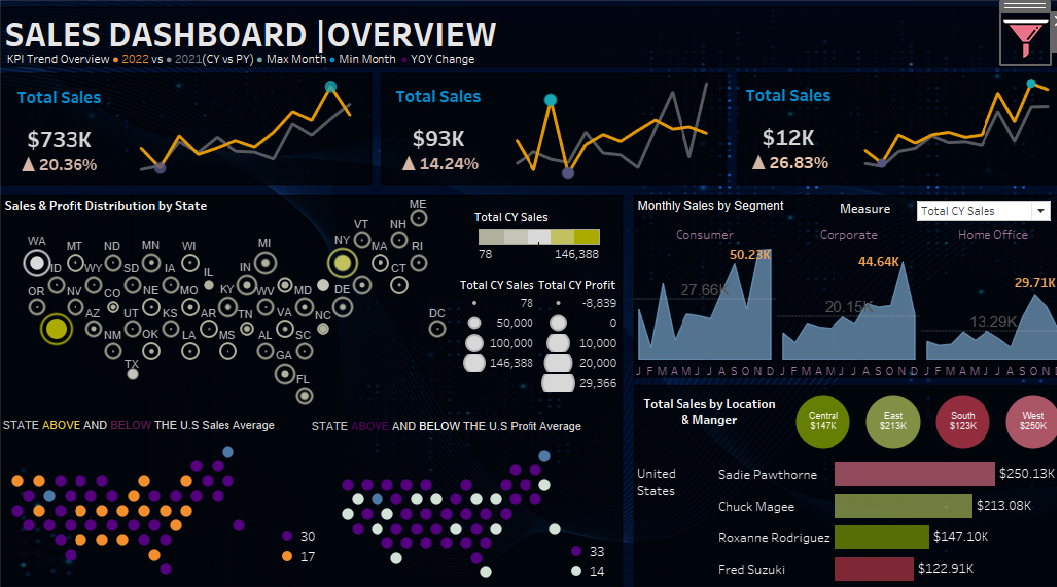

This screenshot's page, from the dashboard's own definition file:
{"tool":"tableau","page":{"name":"Sales Dashboard","canvas":[1000,1000],"units":"permille","ordinal":0},"visuals":[{"type":"image","param":"Image/Presentation2.png","box":[7.5,12.7,984.9,974.7]},{"type":"text","box":[13.1,34.8,471.4,104.4]},{"type":"dashboard-object","box":[927.6,55.4,44.2,80.7]},{"type":"text","box":[15,106,447.1,44.3]},{"type":"filter","title":"Sales & Profit by State","param":"[federated.0pq8gk70szhb8g17a5zz90hh5ztn].[none:Category:nk]","box":[815.6,117.1,89.4,82.3]},{"type":"worksheet","title":"Qty KPI","mark":"Automatic","box":[681.4,147.2,103.5,182]},{"type":"worksheet","title":"QTY Sparkline ","mark":"Automatic","rows":["min max profit (copy)_347621654358249486"],"cols":["Order Date"],"box":[784.8,147.2,203.9,182]},{"type":"worksheet","title":"Sales KPI","mark":"Automatic","box":[11.2,150.3,108.2,182]},{"type":"worksheet","title":"Sales Sparkline","mark":"Automatic","rows":["Calculation_347621654348922892"],"cols":["Order Date"],"box":[119.4,150.3,232,182]},{"type":"worksheet","title":"Profit KPI","mark":"Automatic","box":[359.9,150.3,104.4,180.4]},{"type":"worksheet","title":"Profit Sparkline","mark":"Automatic","rows":["min max month (copy)_347621654356144141"],"cols":["Order Date"],"box":[464.3,150.3,212.3,180.4]},{"type":"filter","title":"Sales & Profit by State","param":"[federated.0pq8gk70szhb8g17a5zz90hh5ztn].[none:Region:nk]","box":[815.6,199.4,89.4,82.3]},{"type":"filter","title":"Sales & Profit by State","param":"[federated.0pq8gk70szhb8g17a5zz90hh5ztn].[none:Ship Mode:nk]","box":[815.6,281.7,89.4,82.3]},{"type":"text","box":[13.1,332.3,256.8,55.4]},{"type":"text","box":[591.7,337,152.4,47.5]},{"type":"worksheet","title":"Sales & Profit by State","mark":"Circle","rows":["Row"],"cols":["Column","Column"],"box":[15,344.9,422.7,351.3]},{"type":"parameter","param":"[Parameters].[Parameter 1]","box":[779.9,348.1,195.7,41.1]},{"type":"legend","title":"Sales & Profit by State","param":"[federated.0pq8gk70szhb8g17a5zz90hh5ztn].[sum:Calculation_347621653857398784:qk]","box":[445.2,365.5,119,85.4]},{"type":"worksheet","title":"Monthly Sales by Segment","mark":"Area","rows":["Calculation_347621655416987669"],"cols":["Segment","Order Date"],"box":[589.8,389.2,396.1,246.8]},{"type":"legend","title":"Sales & Profit by State","param":"[federated.0pq8gk70szhb8g17a5zz90hh5ztn].[sum:Calculation_347621653857398784:qk]","box":[432.1,473.1,77.8,180.4]},{"type":"legend","title":"Sales & Profit by State","param":"[federated.0pq8gk70szhb8g17a5zz90hh5ztn].[sum:Total CY Sales (copy)_347621653926","box":[504.2,473.1,77.8,193]},{"type":"worksheet","title":"Region wise Sales","mark":"Circle","cols":["Region"],"box":[732.8,645.6,255.9,113.9]},{"type":"text","box":[596.4,659.8,127,53.8]},{"type":"text","box":[11.2,685.1,267.1,47.5]},{"type":"text","box":[293.5,686.7,253.1,47.5]},{"type":"worksheet","title":"Avg Sales by State","mark":"Circle","rows":["Row"],"cols":["Column"],"box":[12.2,726.3,233.4,232.6]},{"type":"worksheet","title":"Avg Profit by State","mark":"Circle","rows":["Row"],"cols":["Column"],"box":[314,732.6,220.2,231]},{"type":"worksheet","title":"Total Sales by Location & Manager","mark":"Automatic","rows":["Country/Region","Regional Manager"],"cols":["Calculation_347621653857398784"],"box":[588,759.5,400.8,201]},{"type":"worksheet","title":"Avg Sales by State Count","mark":"Circle","rows":["Calculation_347621655342702609"],"box":[246.5,867.1,62.1,69.6]},{"type":"worksheet","title":"Avg Profit by State Count","mark":"Circle","rows":["Sales Avg color (copy)_347621655345537044"],"box":[510.8,890.8,72.4,66.5]}]}

Visuals, with their boxes on the dashboard's canvas, which has no fixed pixel size, in thousandths of its width and height (x1, y1, x2, y2). These are canvas units, not pixel positions in the 1057x587 screenshot, which may show the page scaled, cropped or inside an application window:
image: rect(8, 13, 992, 987)
text: rect(13, 35, 484, 139)
dashboard-object: rect(928, 55, 972, 136)
text: rect(15, 106, 462, 150)
"Sales & Profit by State" filter: rect(816, 117, 905, 199)
"Qty KPI" worksheet: rect(681, 147, 785, 329)
"QTY Sparkline " worksheet: rect(785, 147, 989, 329)
"Sales KPI" worksheet: rect(11, 150, 119, 332)
"Sales Sparkline" worksheet: rect(119, 150, 351, 332)
"Profit KPI" worksheet: rect(360, 150, 464, 331)
"Profit Sparkline" worksheet: rect(464, 150, 677, 331)
"Sales & Profit by State" filter: rect(816, 199, 905, 282)
"Sales & Profit by State" filter: rect(816, 282, 905, 364)
text: rect(13, 332, 270, 388)
text: rect(592, 337, 744, 384)
"Sales & Profit by State" worksheet (Circle marks): rect(15, 345, 438, 696)
parameter: rect(780, 348, 976, 389)
"Sales & Profit by State" legend: rect(445, 366, 564, 451)
"Monthly Sales by Segment" worksheet (Area marks): rect(590, 389, 986, 636)
"Sales & Profit by State" legend: rect(432, 473, 510, 654)
"Sales & Profit by State" legend: rect(504, 473, 582, 666)
"Region wise Sales" worksheet (Circle marks): rect(733, 646, 989, 760)
text: rect(596, 660, 723, 714)
text: rect(11, 685, 278, 733)
text: rect(294, 687, 547, 734)
"Avg Sales by State" worksheet (Circle marks): rect(12, 726, 246, 959)
"Avg Profit by State" worksheet (Circle marks): rect(314, 733, 534, 964)
"Total Sales by Location & Manager" worksheet: rect(588, 760, 989, 960)
"Avg Sales by State Count" worksheet (Circle marks): rect(246, 867, 309, 937)
"Avg Profit by State Count" worksheet (Circle marks): rect(511, 891, 583, 957)
